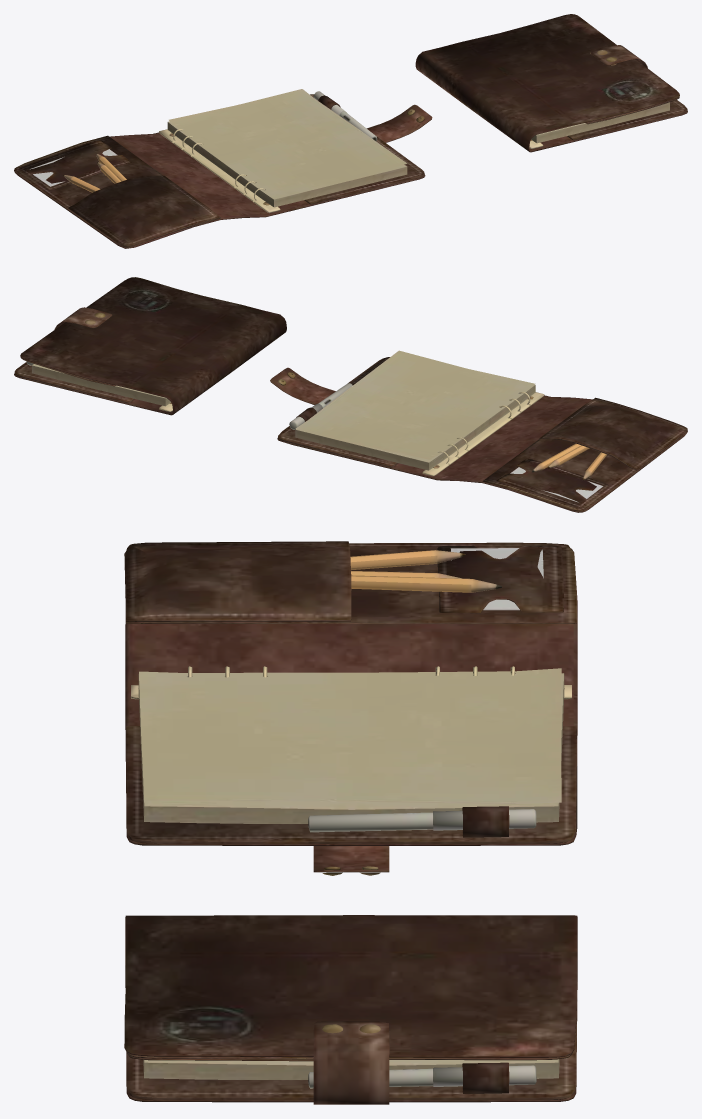
Rendered from binder_notebook.glb.
3 renders of one model, top to bottom at view 1: azimuth 30°, elevation 25°; view 2: azimuth 150°, elevation 25°; view 3: azimuth 270°, elevation 25°, orthographic. The views are drawn at different scales.
Visible parts, largest first — view 1: binder_notebook, binder_notebook_closed; view 2: binder_notebook, binder_notebook_closed; view 3: binder_notebook, binder_notebook_closed.
Boxes of the visible parts, bbox=[...] form: binder_notebook: bbox=[14, 89, 432, 248]; binder_notebook_closed: bbox=[415, 14, 687, 152]; binder_notebook: bbox=[270, 350, 687, 512]; binder_notebook_closed: bbox=[14, 277, 286, 415]; binder_notebook: bbox=[124, 541, 577, 875]; binder_notebook_closed: bbox=[124, 915, 577, 1104].
Bounding box in the file's own units: 0.5836 × 0.0252 × 0.1997.
1 material, 1 textured.
